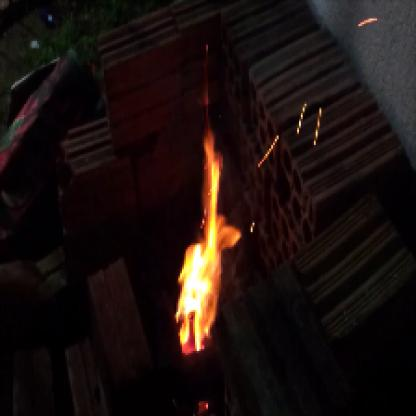Fire: (171, 112, 243, 358)
